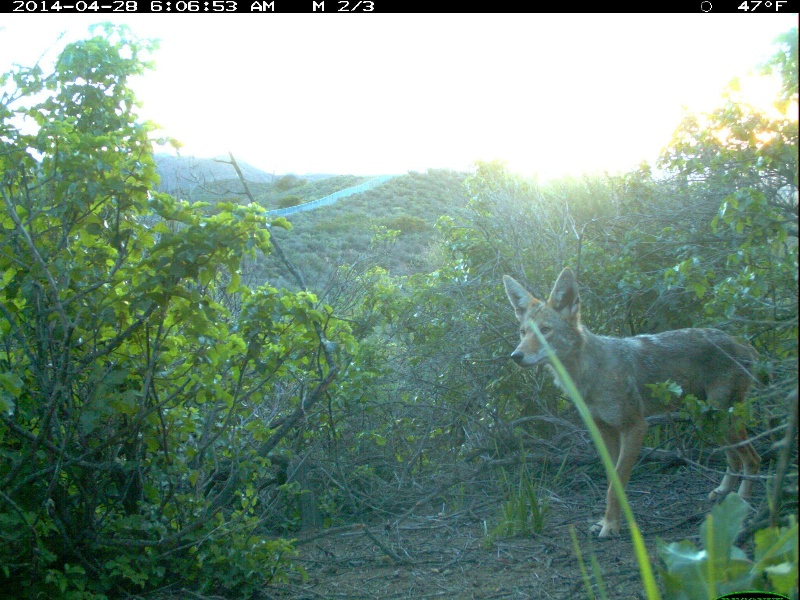coyote: (497, 266, 772, 544)
